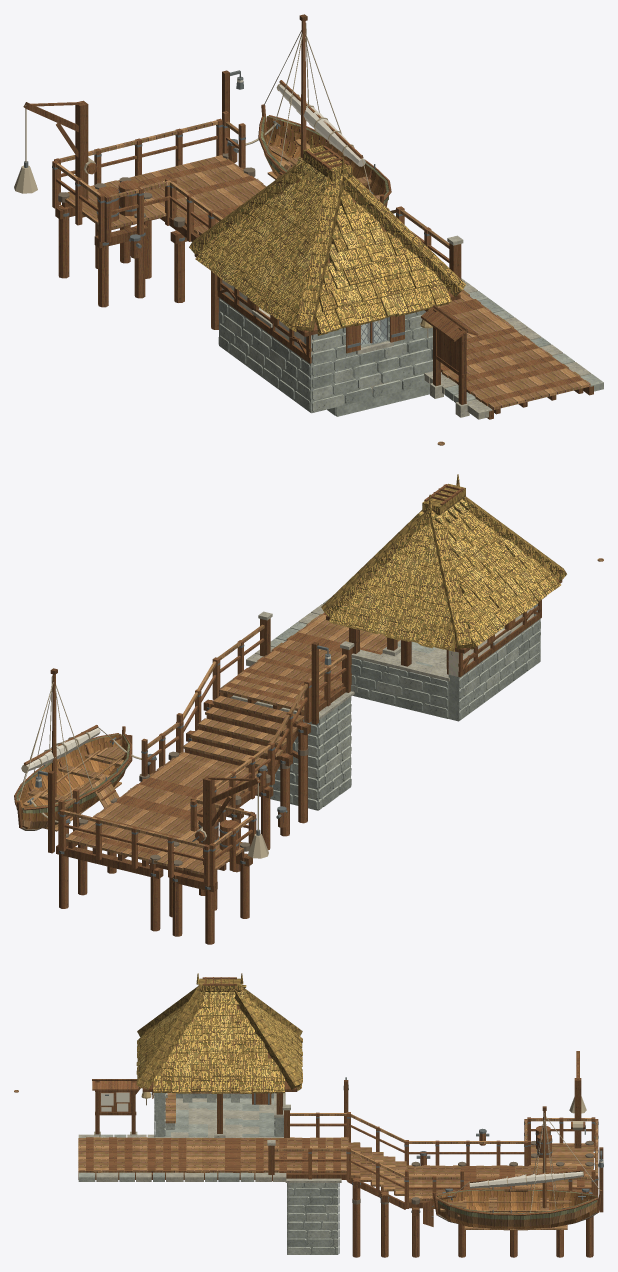
The model's file is haven.glb.
3 renders of one model, top to bottom at view 1: azimuth 30°, elevation 25°; view 2: azimuth 150°, elevation 25°; view 3: azimuth 270°, elevation 25°, orthographic. The views are drawn at different scales.
Parts seen in each view (by area): view 1: Haven_RoofThatch, Haven_ShellWest, Haven_RoofRidge, Haven_DeckPier, Haven_PierRail, Haven_DeckLanding, Haven_PierFrame, Haven_ShellNorth, Haven_Mooring, Haven_PierStone, Haven_ServiceBoat_Rig, Haven_ServiceNotice_Board (+4 smaller); view 2: Haven_RoofThatch, Haven_PierFrame, Haven_PierRail, Haven_DeckLanding, Haven_RoofRidge, Haven_DeckPier, Haven_PierStone, Haven_ShellNorth, Haven_ShellEast, Haven_ServiceBoat_Hull, Haven_Mooring, Haven_StairFlight (+4 smaller); view 3: Haven_RoofThatch, Haven_DeckPier, Haven_PierStone, Haven_PierRail, Haven_ServiceBoat_Hull, Haven_RoofRidge, Haven_DeckLanding, Haven_PierFrame, Haven_FloorShelter, Haven_ServiceBoat_Rig, Haven_ServiceNotice_Board, Haven_Mooring (+7 smaller).
Part boxes in pixels (left/top/right/bottom): Haven_RoofThatch: left=195, top=170, right=451, bottom=335; Haven_ShellWest: left=304, top=310, right=432, bottom=412; Haven_RoofRidge: left=189, top=135, right=465, bottom=331; Haven_DeckPier: left=376, top=290, right=590, bottom=409; Haven_PierRail: left=52, top=111, right=463, bottom=279; Haven_DeckLanding: left=65, top=155, right=266, bottom=235; Haven_PierFrame: left=55, top=153, right=593, bottom=419; Haven_ShellNorth: left=218, top=280, right=322, bottom=412; Haven_Mooring: left=14, top=70, right=276, bottom=258; Haven_PierStone: left=327, top=278, right=603, bottom=419; Haven_ServiceBoat_Rig: left=263, top=14, right=370, bottom=191; Haven_ServiceNotice_Board: left=420, top=305, right=478, bottom=417; Haven_RoofThatch: left=328, top=506, right=560, bottom=651; Haven_PierFrame: left=56, top=664, right=345, bottom=944; Haven_PierRail: left=58, top=611, right=354, bottom=886; Haven_DeckLanding: left=66, top=752, right=267, bottom=875; Haven_RoofRidge: left=321, top=474, right=566, bottom=649; Haven_DeckPier: left=219, top=612, right=400, bottom=712; Haven_PierStone: left=221, top=598, right=358, bottom=810; Haven_ShellNorth: left=448, top=606, right=540, bottom=721; Haven_ShellEast: left=351, top=649, right=449, bottom=718; Haven_ServiceBoat_Hull: left=14, top=726, right=132, bottom=830; Haven_Mooring: left=31, top=642, right=331, bottom=864; Haven_StairFlight: left=183, top=695, right=304, bottom=768; Haven_RoofThatch: left=136, top=993, right=302, bottom=1093; Haven_DeckPier: left=78, top=1137, right=348, bottom=1173; Haven_PierStone: left=78, top=1134, right=341, bottom=1254; Haven_PierRail: left=267, top=1104, right=598, bottom=1208; Haven_ServiceBoat_Hull: left=433, top=1188, right=602, bottom=1230; Haven_RoofRidge: left=137, top=973, right=302, bottom=1089; Haven_DeckLanding: left=406, top=1143, right=594, bottom=1201; Haven_PierFrame: left=78, top=1140, right=593, bottom=1257; Haven_FloorShelter: left=155, top=1098, right=283, bottom=1137; Haven_ServiceBoat_Rig: left=451, top=1106, right=599, bottom=1212; Haven_ServiceNotice_Board: left=92, top=1079, right=151, bottom=1137; Haven_Mooring: left=343, top=1051, right=603, bottom=1212.
Size of the model in its own units: 10.38 by 9.69 by 22.9.
30 materials, 21 textured.
